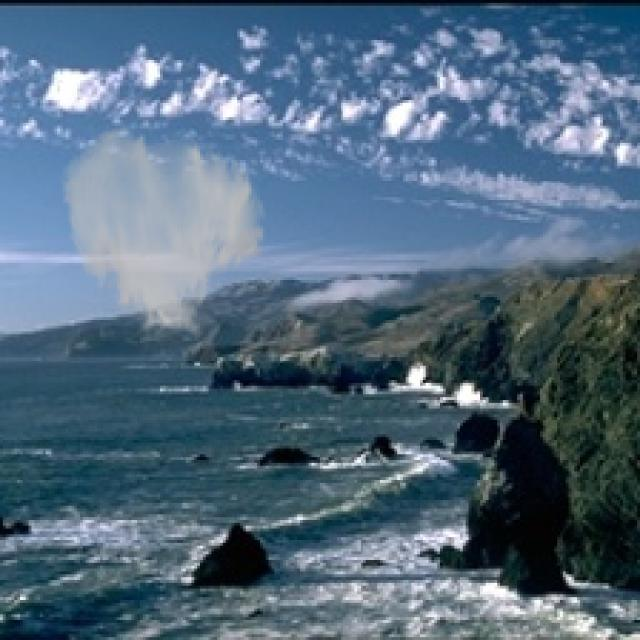smoke: (60, 123, 269, 343)
